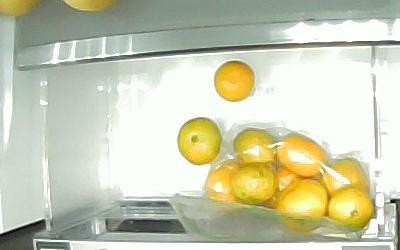tangerine: (176, 115, 222, 165), (213, 59, 255, 102)
tangerine_vinyl: (275, 176, 328, 231), (275, 130, 326, 176), (317, 156, 370, 199), (229, 161, 279, 203), (325, 186, 375, 228), (231, 126, 279, 168), (204, 159, 244, 203)
